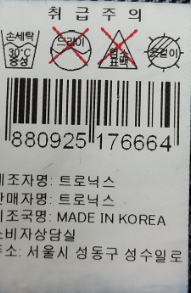KR_hand_wash_30_neutral: (1, 26, 40, 71)
KR_hang_dry_in_shade: (145, 33, 185, 72)
KR_no_chlorine_bleach: (97, 26, 139, 75)
KR_no_dry_clean: (49, 28, 93, 71)
